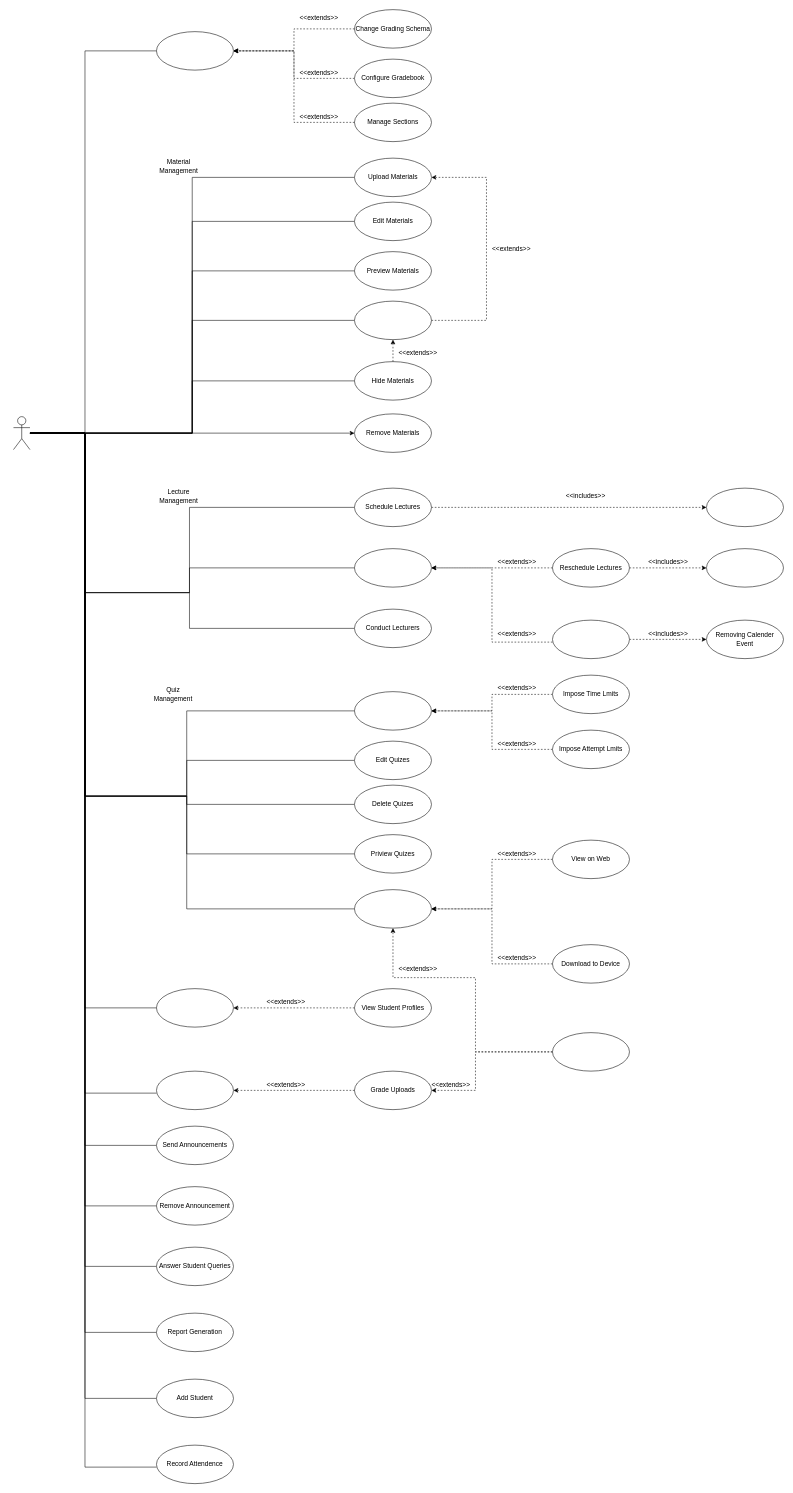
Some shapes in this 793 by 1493 pixel diagram are drawn without their labels. Here are the shapes that lost their labels. From the top down, the centre of each, then its label:
At (x=194, y=50): "Adjusting Course Settings".
At (x=392, y=320): "Add Text".
At (x=21, y=433): "Lecturer".
At (x=744, y=507): "Creating a Calender event".
At (x=392, y=567): "Modify Lectures".
At (x=744, y=567): "Modify Calender event".
At (x=590, y=639): "Delete Lectures".
At (x=392, y=710): "Create Quizes".
At (x=392, y=908): "Grade Quizes".
At (x=194, y=1007): "View Enrolled Students".
At (x=590, y=1051): "Provide Feedback".
At (x=194, y=1090): "Download Student Uploads".
